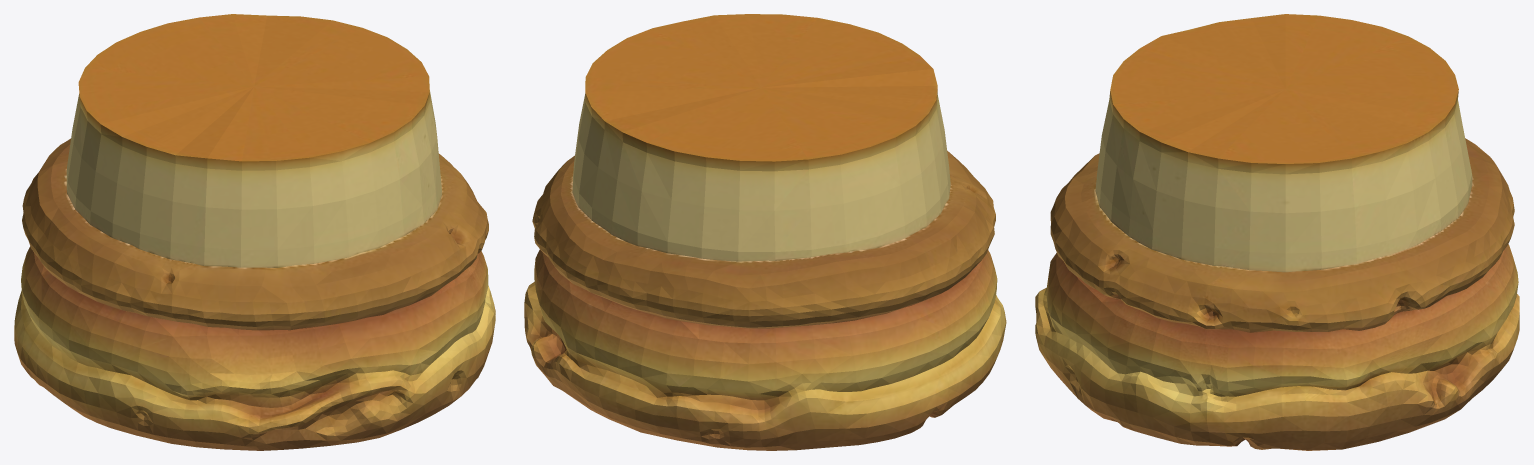
File: food_0.glb
The picture shows the model from 3 angles, left to right: view 1: azimuth 30°, elevation 25°; view 2: azimuth 150°, elevation 25°; view 3: azimuth 270°, elevation 25°; orthographic projection.
Parts seen in each view (by area): view 1: tripo_node_b94794be-7ca1-4b76-accc-fc1342e68721; view 2: tripo_node_b94794be-7ca1-4b76-accc-fc1342e68721; view 3: tripo_node_b94794be-7ca1-4b76-accc-fc1342e68721.
Part boxes in pixels (x1,y1,x2,y2): tripo_node_b94794be-7ca1-4b76-accc-fc1342e68721: (14, 14, 495, 450); tripo_node_b94794be-7ca1-4b76-accc-fc1342e68721: (524, 14, 1006, 450); tripo_node_b94794be-7ca1-4b76-accc-fc1342e68721: (1035, 14, 1519, 450).
Size of the model in its own units: 0.9824 by 0.6348 by 0.998.
Materials: 1 (1 with a texture image).
